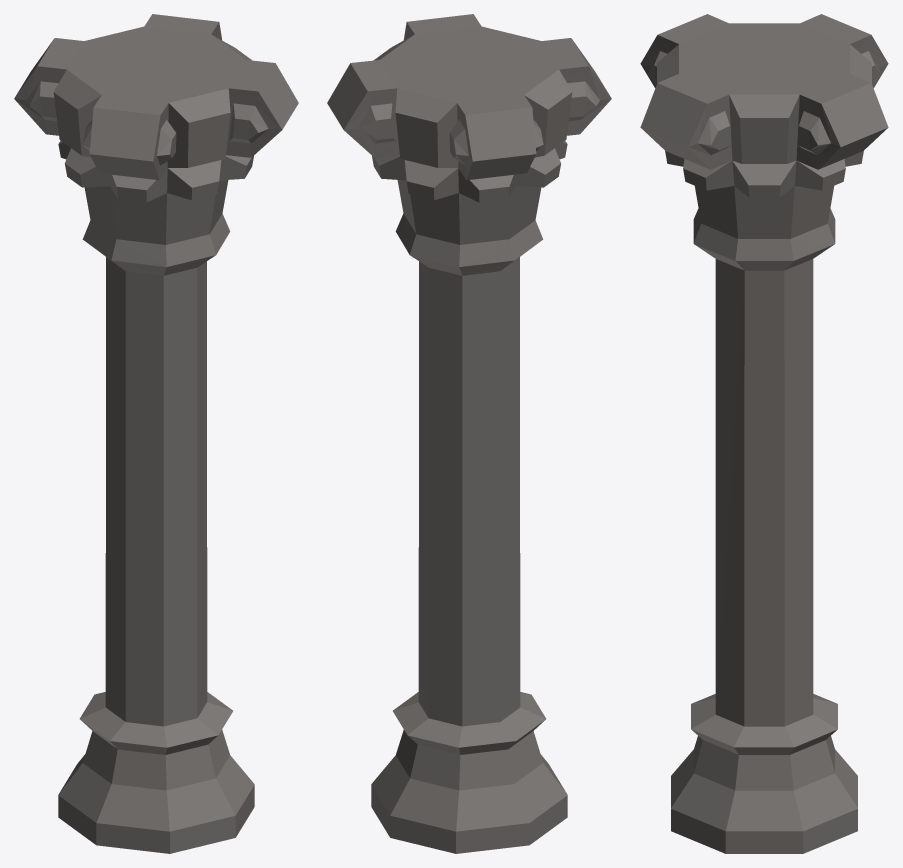
The model's file is SM_Prop_Pillar_01.glb.
3 renders of one model, left to right at view 1: azimuth 30°, elevation 25°; view 2: azimuth 150°, elevation 25°; view 3: azimuth 270°, elevation 25°, orthographic.
Visible parts, largest first — view 1: SM_Prop_Pillar_01_part00; view 2: SM_Prop_Pillar_01_part00; view 3: SM_Prop_Pillar_01_part00.
Part boxes in pixels (bbox=[...]): SM_Prop_Pillar_01_part00: bbox=[14, 14, 298, 853]; SM_Prop_Pillar_01_part00: bbox=[327, 14, 611, 853]; SM_Prop_Pillar_01_part00: bbox=[640, 14, 888, 853].
Size of the model in its own units: 1.06 by 3.6 by 1.07.
1 material, 1 textured.
